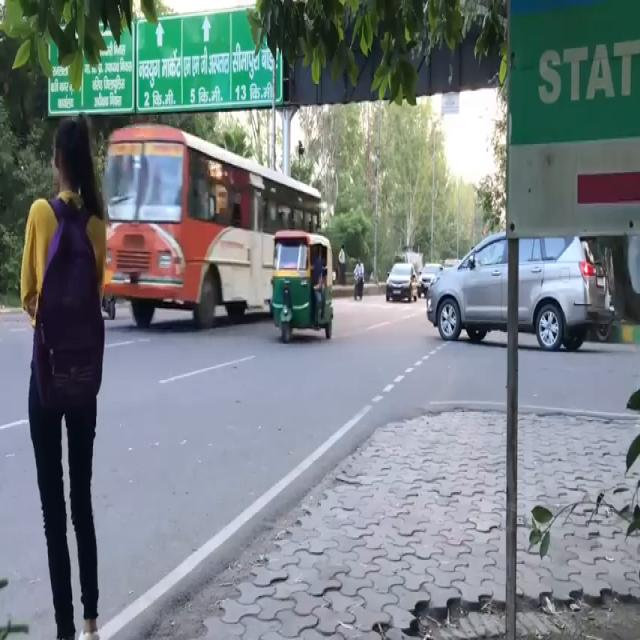BUS: (96, 129, 319, 335)
MOTORCYCLE: (356, 270, 366, 301)
SUV: (427, 225, 615, 357)
